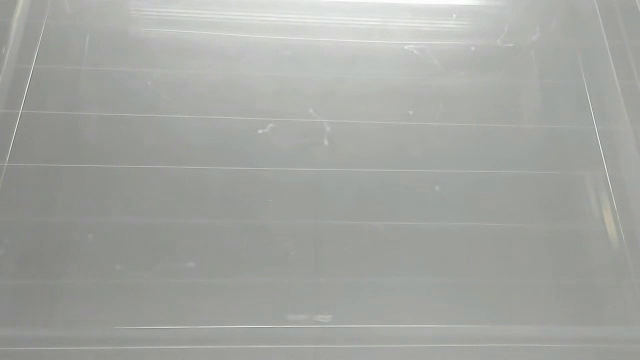alpha: (282, 308, 339, 324)
